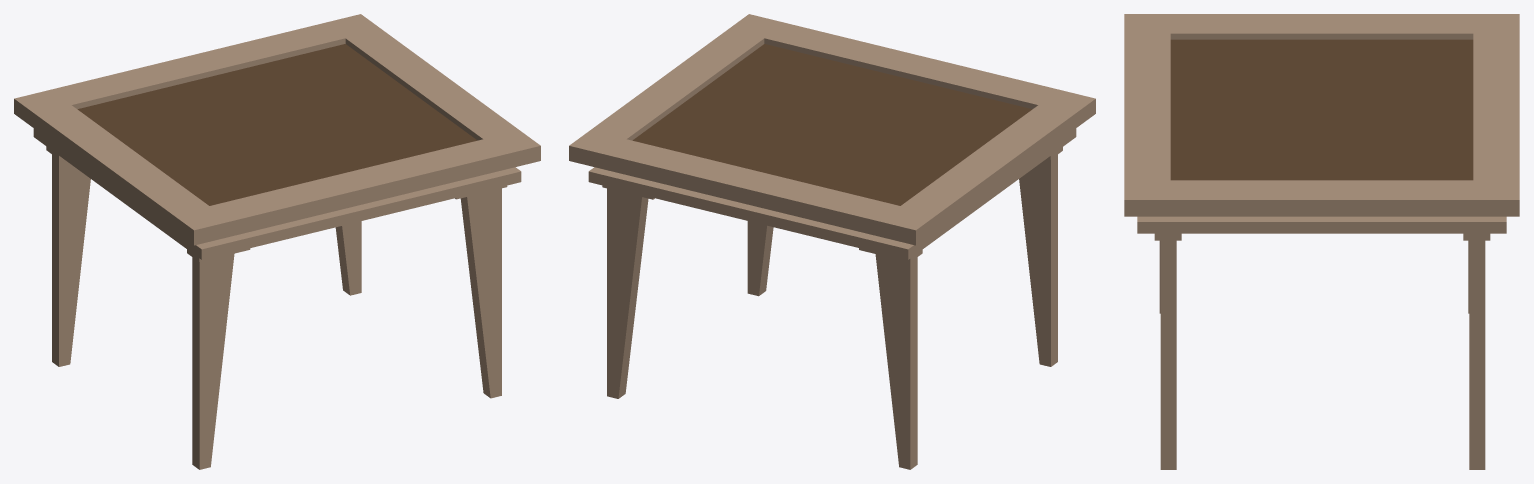
Rendered from tables001.glb.
The picture shows the model from 3 angles, left to right: view 1: azimuth 30°, elevation 25°; view 2: azimuth 150°, elevation 25°; view 3: azimuth 270°, elevation 25°; orthographic projection. The views are drawn at different scales.
Parts seen in each view (by area): view 1: tables.001; view 2: tables.001; view 3: tables.001.
Boxes of the visible parts, box(x1,y1,x2,y2) form: tables.001: box(14, 14, 540, 469); tables.001: box(569, 14, 1095, 469); tables.001: box(1124, 14, 1519, 469).
Bounding box in the file's own units: 1.11 × 0.7868 × 1.
1 material, 1 textured.
